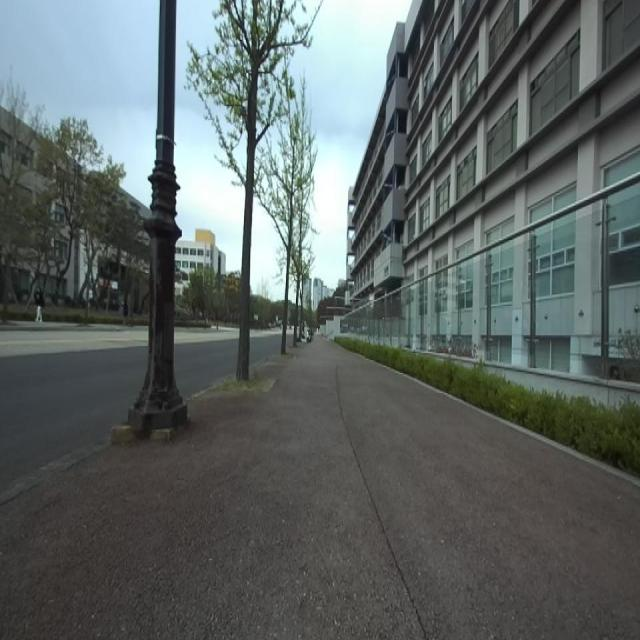sidewalk: (0, 339, 640, 639), (0, 436, 110, 505), (189, 380, 223, 399)
